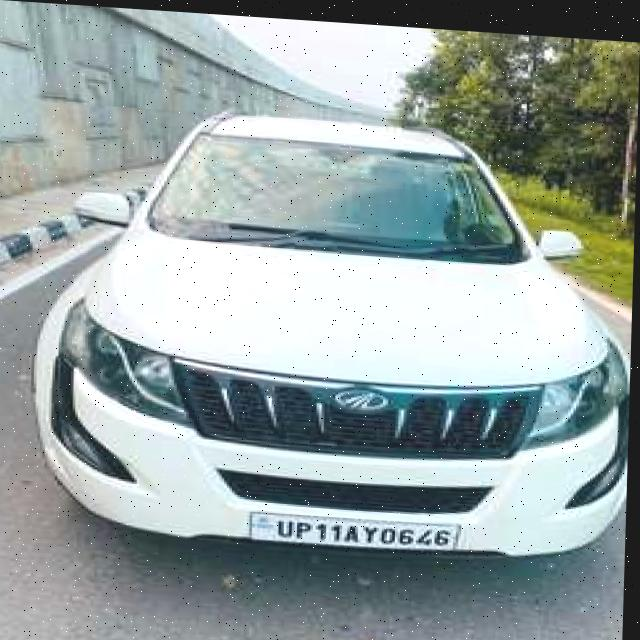plate: (251, 504, 464, 548)
